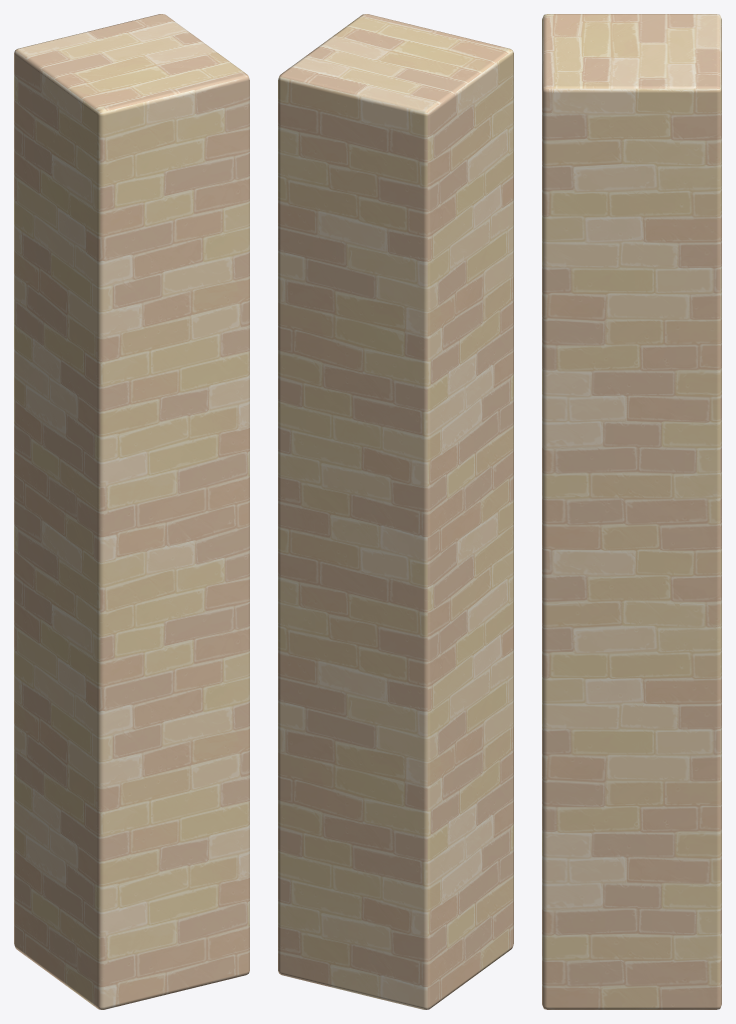
File: SM_wall_connector_01.fbx
3 views of the same model, side by side, from view 1: azimuth 30°, elevation 25°; view 2: azimuth 150°, elevation 25°; view 3: azimuth 270°, elevation 25° (orthographic). The views are drawn at different scales.
Parts seen in each view (by area): view 1: Box503; view 2: Box503; view 3: Box503.
Part boxes in pixels (x1=…): Box503: x1=14, y1=14, x2=249, y2=1009; Box503: x1=278, y1=14, x2=513, y2=1009; Box503: x1=542, y1=14, x2=721, y2=1009.
Bounding box in the file's own units: 37.9 × 215 × 37.9.
